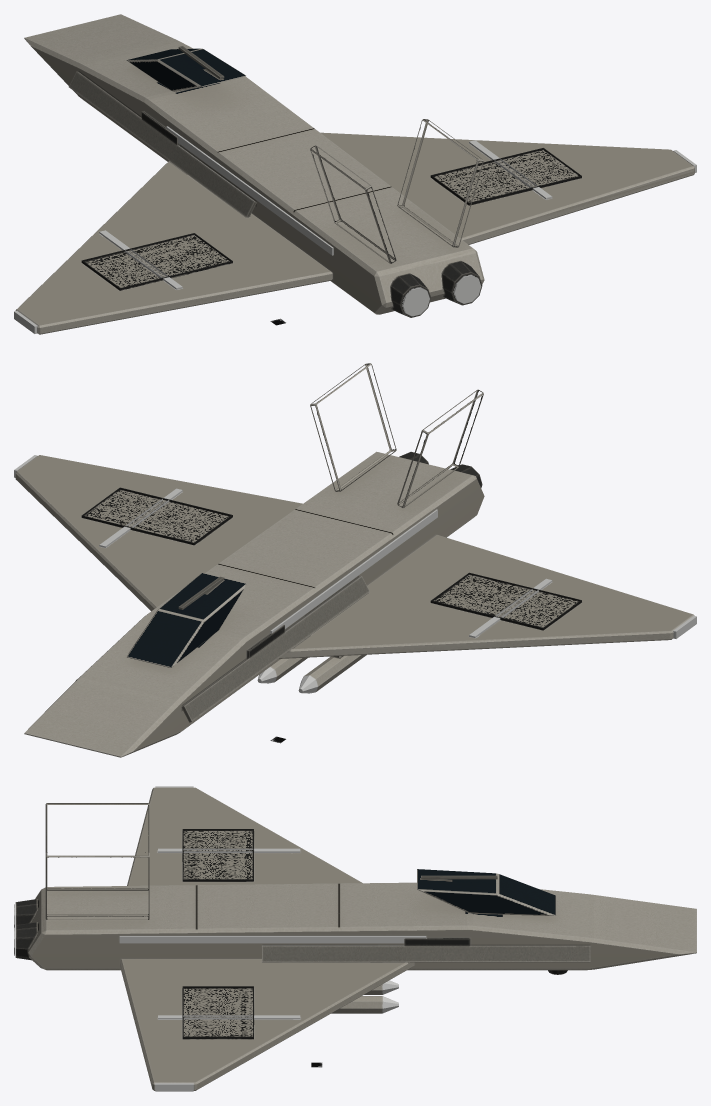
File: ord_archon.fbx
3 renders of one model, top to bottom at view 1: azimuth 30°, elevation 25°; view 2: azimuth 150°, elevation 25°; view 3: azimuth 270°, elevation 25°, orthographic. The views are drawn at different scales.
Parts seen in each view (by area): view 1: base_bar, base_glow_running_bar; view 2: base_bar, base_glow_running_bar, pylon_bar; view 3: base_bar, base_glow_running_bar, pylon_bar.
Boxes of the visible parts, x1=… form: base_bar: x1=15, y1=14, x2=694, y2=334; base_glow_running_bar: x1=14, y1=126, x2=696, y2=333; base_bar: x1=15, y1=363, x2=694, y2=757; base_glow_running_bar: x1=14, y1=455, x2=696, y2=638; pylon_bar: x1=270, y1=654, x2=366, y2=691; base_bar: x1=15, y1=787, x2=696, y2=1090; base_glow_running_bar: x1=14, y1=786, x2=426, y2=1091; pylon_bar: x1=331, y1=984, x2=382, y2=1013.
Size of the model in its own units: 1290 by 478 by 1247.
Materials: 2 (2 with a texture image).
